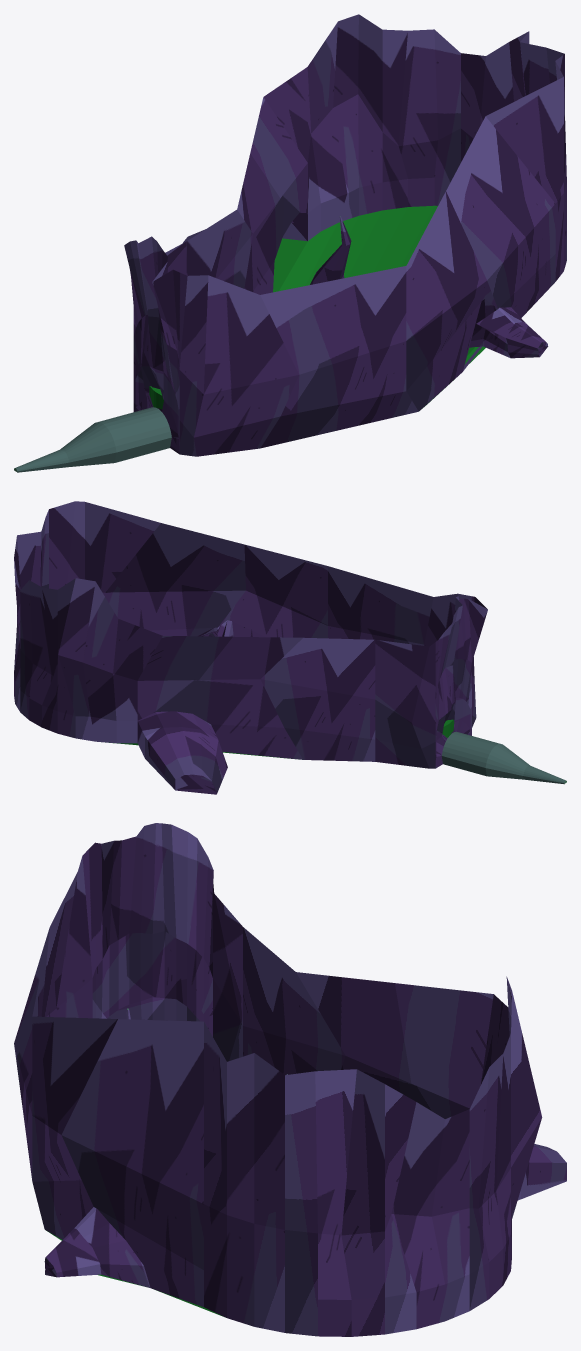
The model's file is Mapa Batalla Tunel.fbx.
3 renders of one model, top to bottom at view 1: azimuth 30°, elevation 25°; view 2: azimuth 150°, elevation 25°; view 3: azimuth 270°, elevation 25°, orthographic. The views are drawn at different scales.
Parts seen in each view (by area): view 1: Mapa Batalla Tunel; view 2: Mapa Batalla Tunel; view 3: Mapa Batalla Tunel.
Part boxes in pixels (bbox=[...]): Mapa Batalla Tunel: bbox=[14, 14, 566, 472]; Mapa Batalla Tunel: bbox=[14, 501, 566, 794]; Mapa Batalla Tunel: bbox=[14, 823, 566, 1336].
Size of the model in its own units: 217935 by 130917 by 85267.
Materials: 5 (4 with a texture image).
